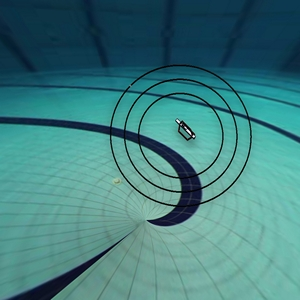circle: (99, 54, 264, 214)
submarine: (167, 110, 203, 148)
